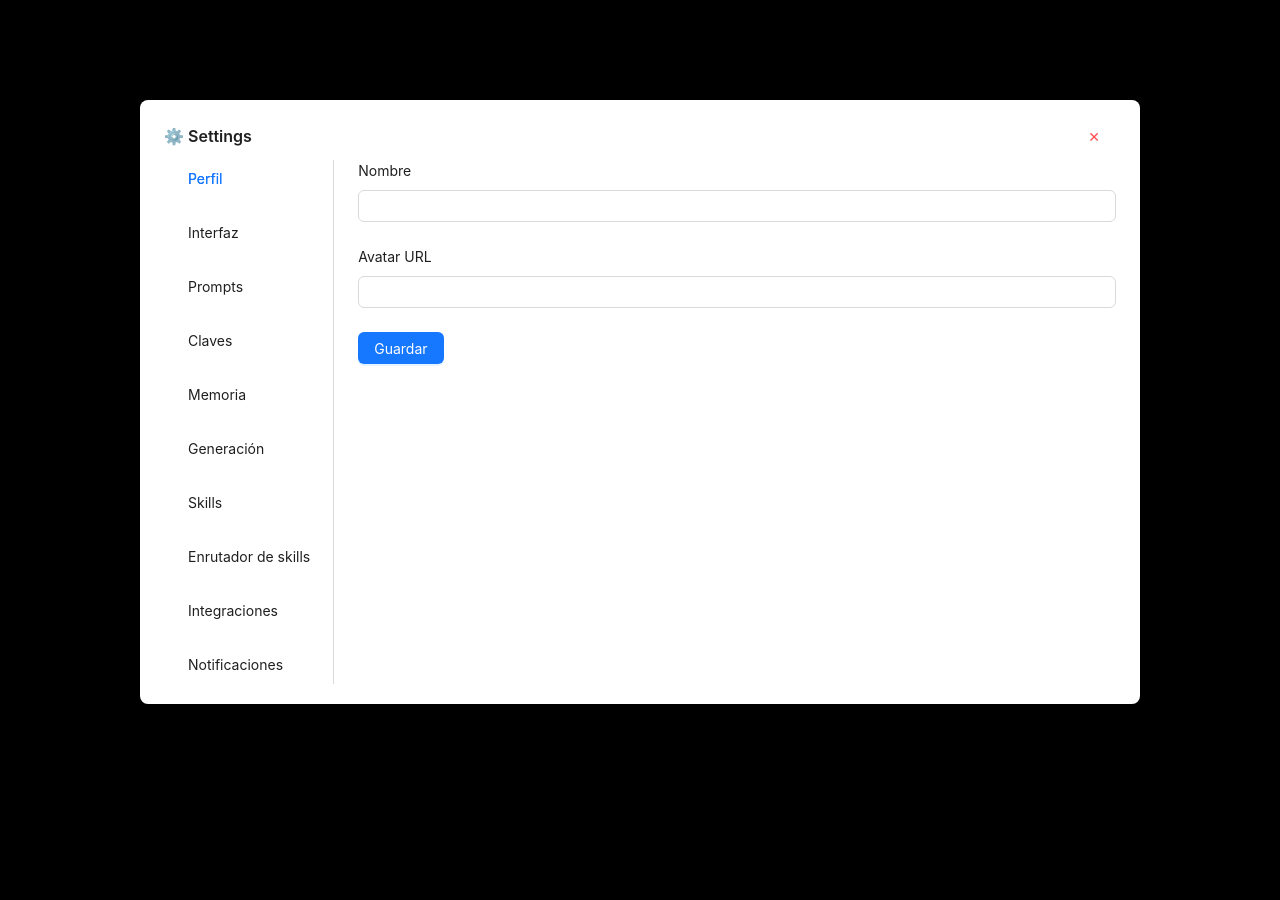
SettingsDialog › shows archivist_prompt when opening the Archivist sub-tab
Click the tab "Prompts" at (216, 287), box [188,276,243,298]
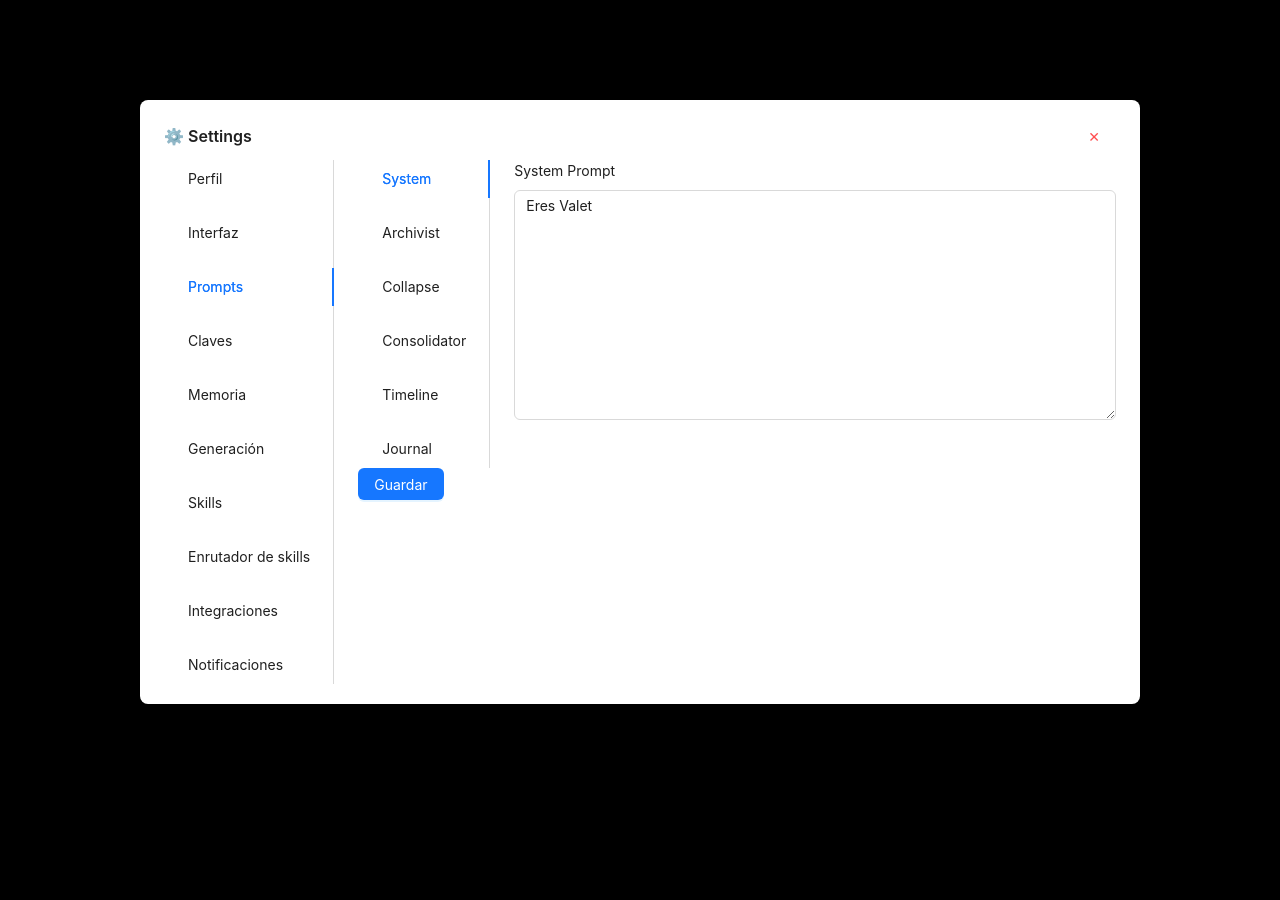
Click the tab "Archivist" at (411, 233), box [382,222,440,244]
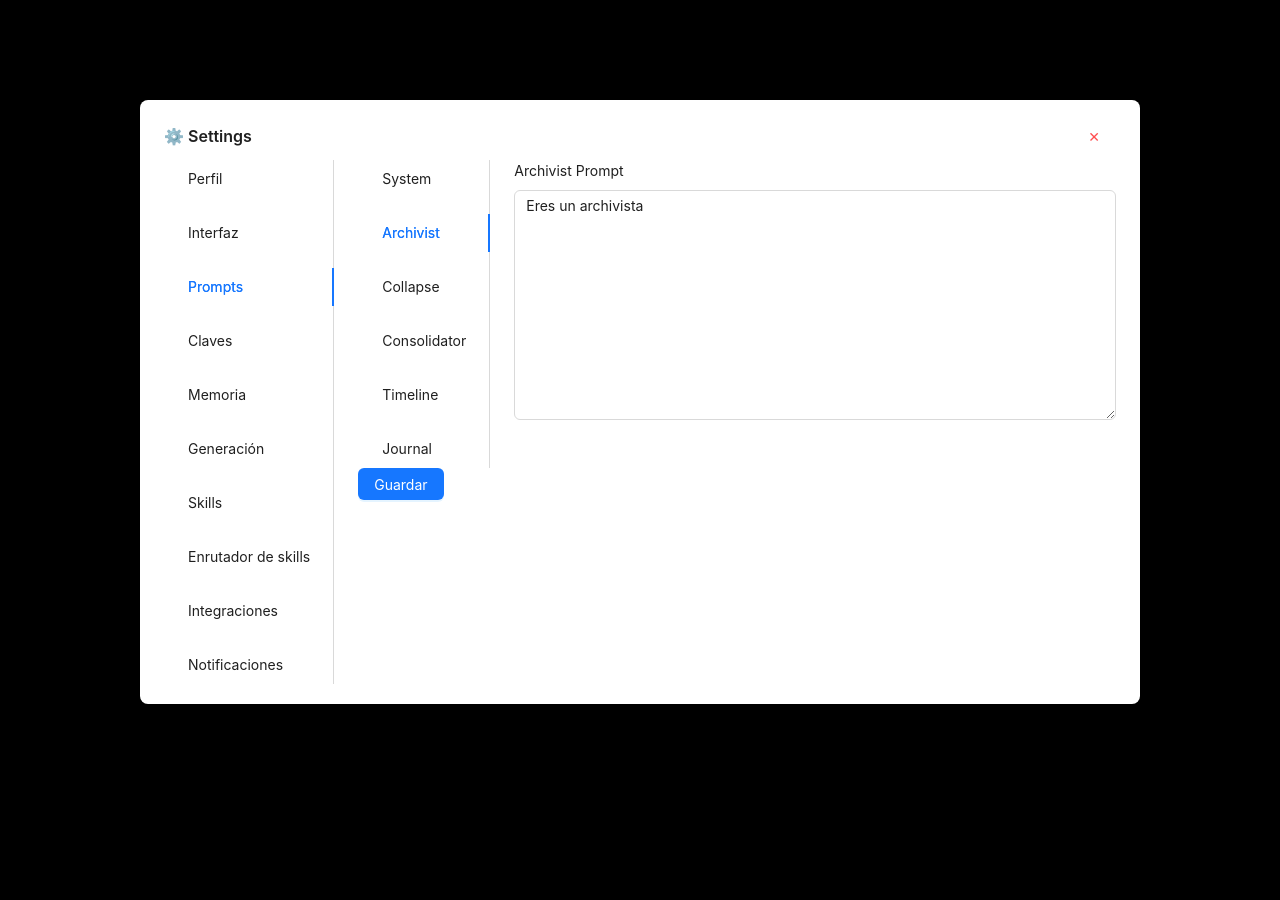
Expected: the text box labelled "Archivist Prompt" holds "Eres un archivista", [514,190,1116,420]
